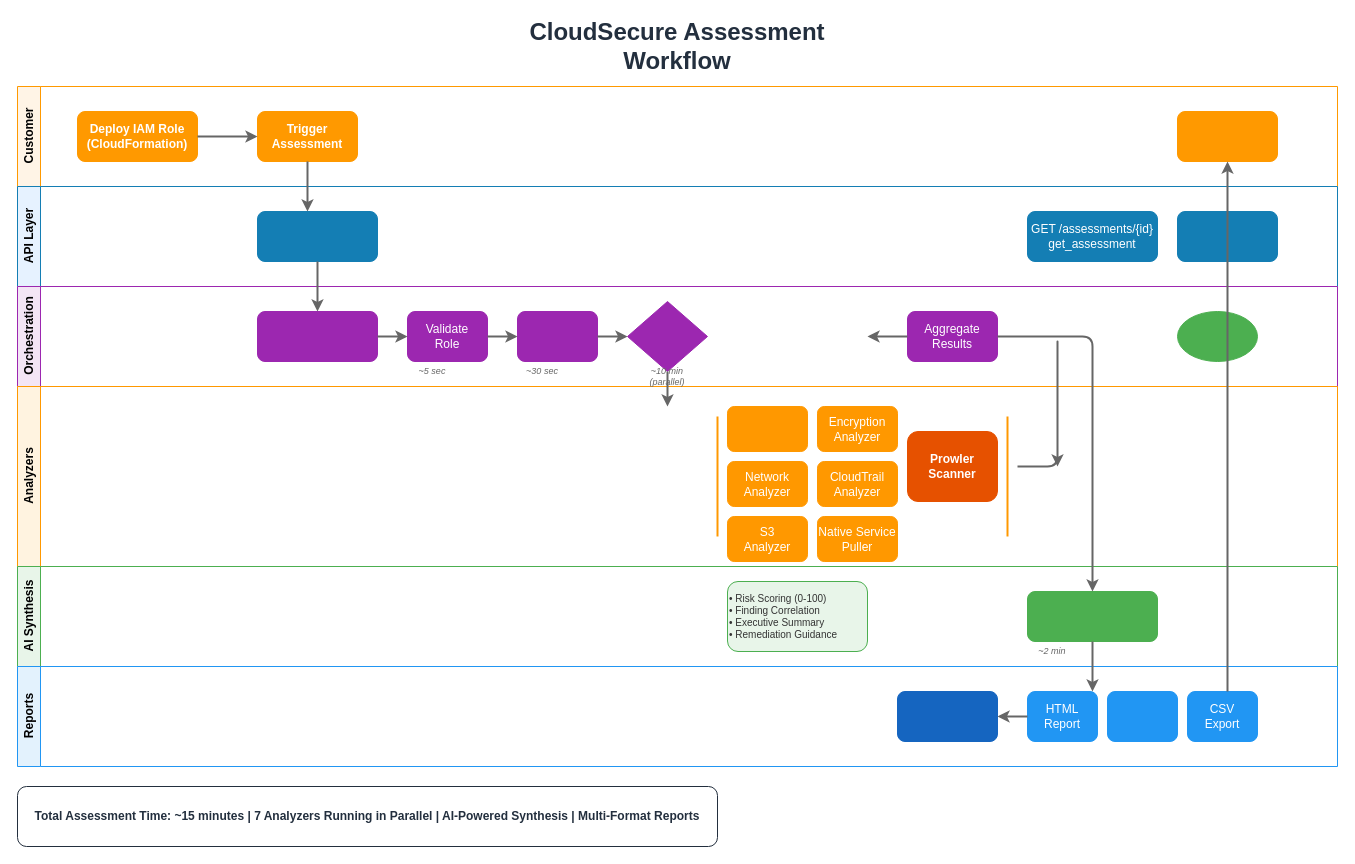
Some shapes in this 1355 by 864 pixel diagram are drawn without their labels. Here are the shapes that lost their labels. From the top down, the centre of each, then its label:
[1227,136]: Receive Reports
[317,236]: POST /assessments start_assessment
[1227,236]: GET /report get_report
[317,336]: Step Functions Start Execution
[557,336]: Discovery Module
[667,336]: Parallel Map
[1217,336]: Complete
[767,429]: IAM Analyzer
[1092,616]: Bedrock Claude 3 AI Synthesis
[947,716]: S3 Storage (KMS Encrypted)
[1142,716]: JSON Export
